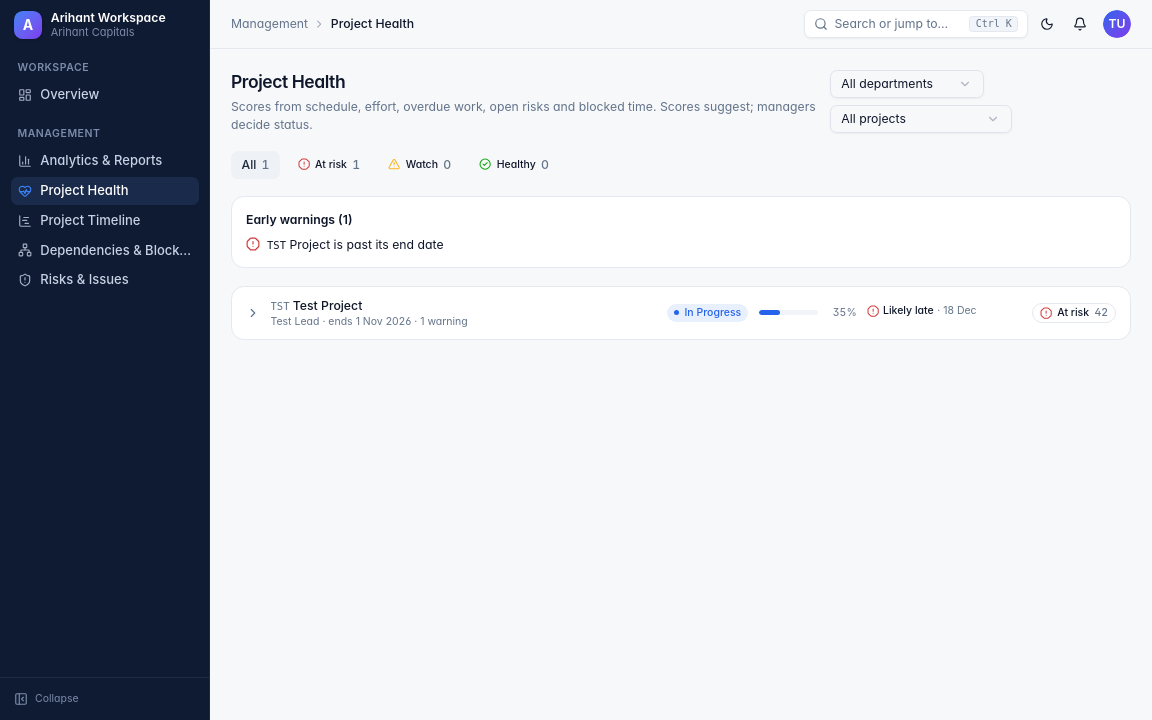
Scenario: Delivery forecast › shows the forecast label and explains it with the weekly history and tasks at risk
Expected: the text "Likely late" is shown, [883,304,934,317]
Click the button "TST Test Project": coordinates (681, 313) [232,286,1130,339]
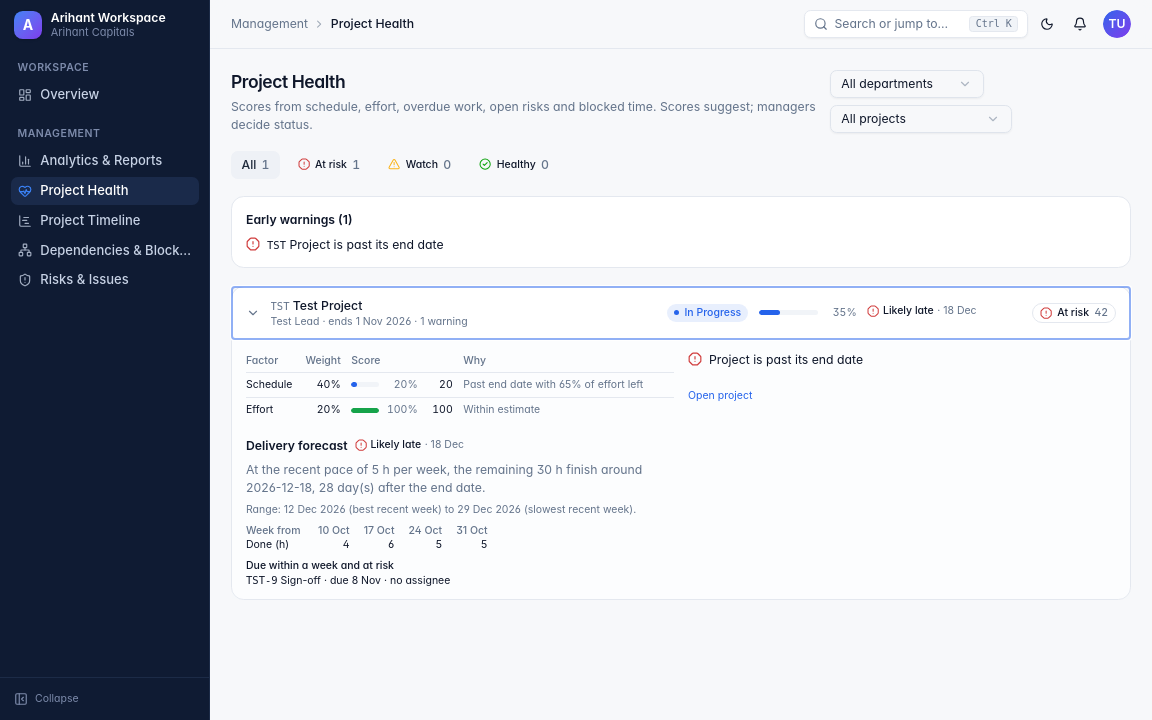
Result: the text "28 day(s) after the end date" is shown at [246,462,642,494]
Result: the text "TST-9" is shown at [246,574,278,586]
